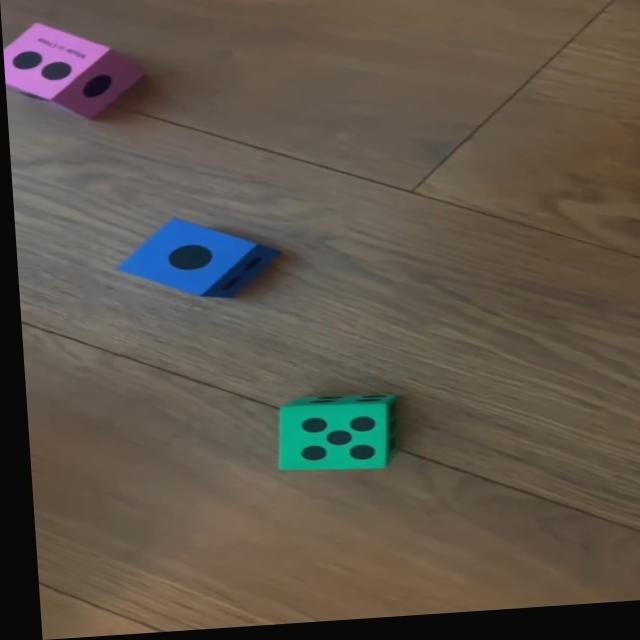blue_block: (106, 213, 275, 305)
